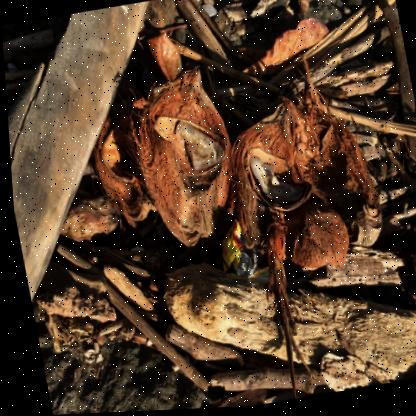Plastic: (217, 220, 263, 285)
